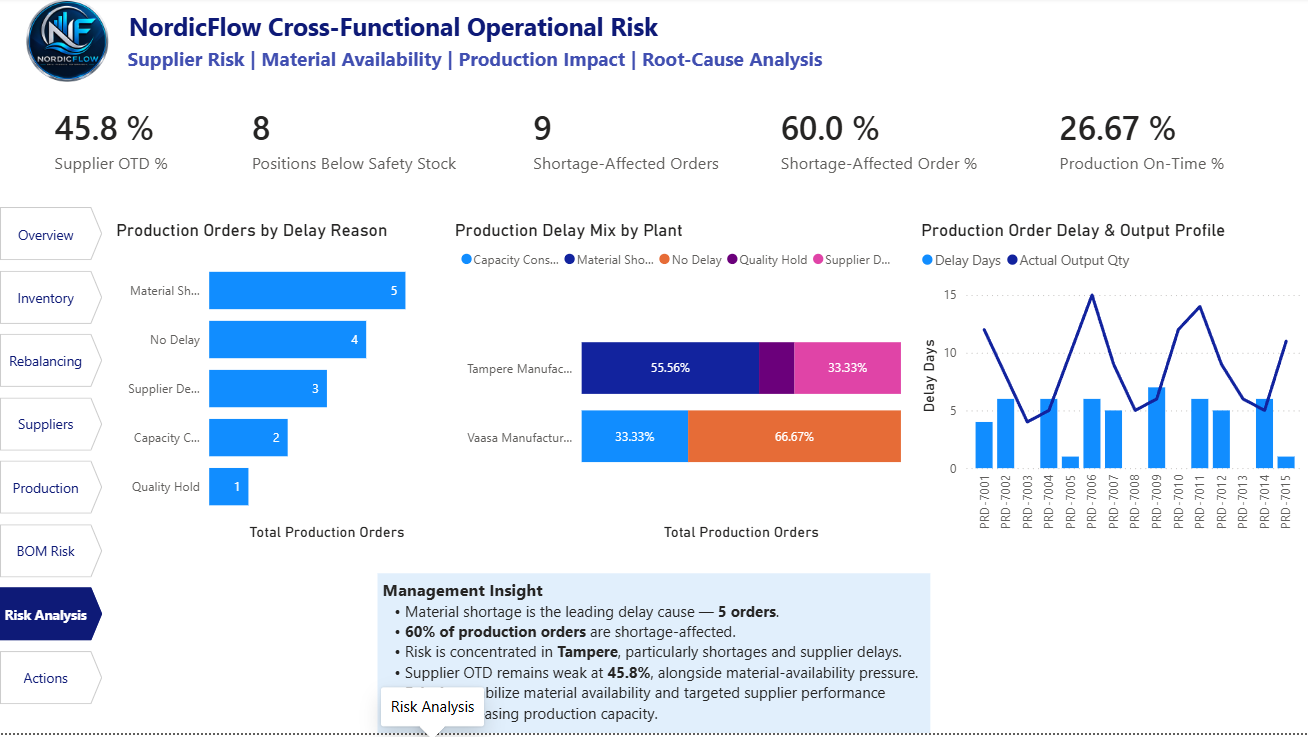

This screenshot's page, from the dashboard's own definition file:
{"tool":"powerbi","page":{"name":"Risk Analysis","canvas":[1280,720],"ordinal":6},"visuals":[{"type":"textbox","box":[121.5,7.8,670.1,48.9],"z":0},{"type":"textbox","box":[120.3,43.3,745.9,39.1],"z":1000},{"type":"image","box":[0,0,132.1,88],"z":2000},{"type":"cardVisual","fields":{"Data":["_Measures.Supplier OTD %"]},"box":[29.3,90.5,181,97.8],"z":3000},{"type":"cardVisual","fields":{"Data":["_Measures.Positions Below Safety Stock"]},"box":[222.6,90.5,250.7,97.8],"z":4000},{"type":"cardVisual","fields":{"Data":["_Measures.Shortage-Affected Orders"]},"box":[497.2,91,242.1,97.8],"z":5000},{"type":"cardVisual","fields":{"Data":["_Measures.Shortage-Affected Order %"]},"box":[739.3,91,253.1,97.8],"z":6000},{"type":"cardVisual","fields":{"Data":["_Measures.Production On-Time %"]},"box":[1012,91,248.2,97.8],"z":7000},{"type":"clusteredBarChart","title":"Production Orders by Delay Reason","fields":{"Category":["Fact_production_orders.Delay_Reason"],"Y":["_Measures.Total Production Orders"]},"box":[108.8,217.7,331.4,319.2],"z":8000},{"type":"hundredPercentStackedBarChart","title":"Production Delay Mix by Plant","fields":{"Category":["Dim_plant.Plant_Name"],"Series":["Fact_production_orders.Delay_Reason"],"Y":["_Measures.Total Production Orders"]},"box":[440.2,217.7,446.3,319.2],"z":9000},{"type":"lineClusteredColumnComboChart","title":"Production Order Delay & Output Profile","fields":{"Category":["Fact_production_orders.Production_Order_ID"],"Y":["Max(Fact_production_orders.Completion_Delay_Days)"],"Y2":["Sum(Fact_production_orders.Actual_Qty)"]},"box":[896.3,217.7,384,319.2],"z":10000},{"type":"textbox","box":[369.3,563.7,540.5,156.5],"z":11000},{"type":"pageNavigator","box":[0,205.4,100.3,492.8],"z":12000}]}

Visuals, with their boxes in screenshot pixels (x1, y1, x2, y2), scaled from the page's 1280x720 canvas onto the 1308x737 screenshot:
textbox: bbox=[124, 8, 809, 58]
textbox: bbox=[123, 44, 885, 84]
image: bbox=[0, 0, 135, 90]
cardVisual - _Measures.Supplier OTD %: bbox=[30, 93, 215, 193]
cardVisual - _Measures.Positions Below Safety Stock: bbox=[227, 93, 484, 193]
cardVisual - _Measures.Shortage-Affected Orders: bbox=[508, 93, 755, 193]
cardVisual - _Measures.Shortage-Affected Order %: bbox=[755, 93, 1014, 193]
cardVisual - _Measures.Production On-Time %: bbox=[1034, 93, 1288, 193]
"Production Orders by Delay Reason" clusteredBarChart: bbox=[111, 223, 450, 550]
"Production Delay Mix by Plant" hundredPercentStackedBarChart: bbox=[450, 223, 906, 550]
"Production Order Delay & Output Profile" lineClusteredColumnComboChart: bbox=[916, 223, 1307, 550]
textbox: bbox=[377, 577, 930, 736]
pageNavigator: bbox=[0, 210, 102, 715]
